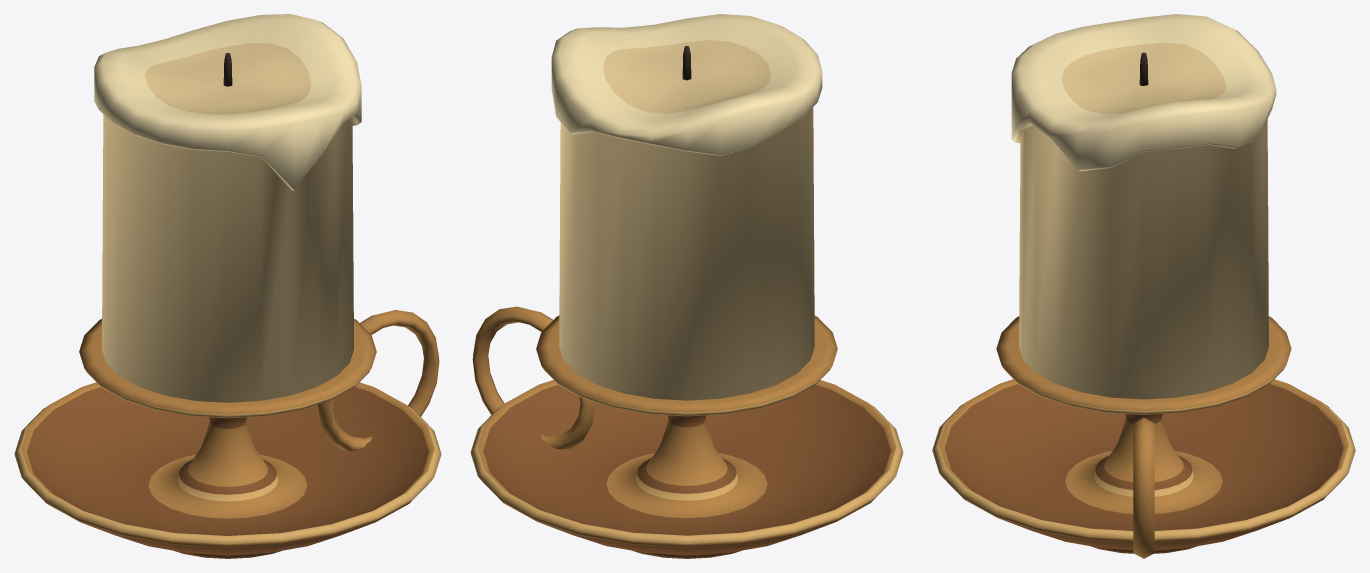
Rendered from SM_BedsideCandlestick.fbx.
3 renders of one model, left to right at view 1: azimuth 30°, elevation 25°; view 2: azimuth 150°, elevation 25°; view 3: azimuth 270°, elevation 25°, orthographic. The views are drawn at different scales.
Parts seen in each view (by area): view 1: SM_BedsideCandlestick; view 2: SM_BedsideCandlestick; view 3: SM_BedsideCandlestick.
Boxes of the visible parts, x1,y1,x2,y2 form: SM_BedsideCandlestick: [14, 14, 441, 558]; SM_BedsideCandlestick: [470, 14, 903, 558]; SM_BedsideCandlestick: [932, 14, 1355, 558].
Bounding box in the file's own units: 18.41 × 17.2 × 20.8.
Materials: 1 (1 with a texture image).
